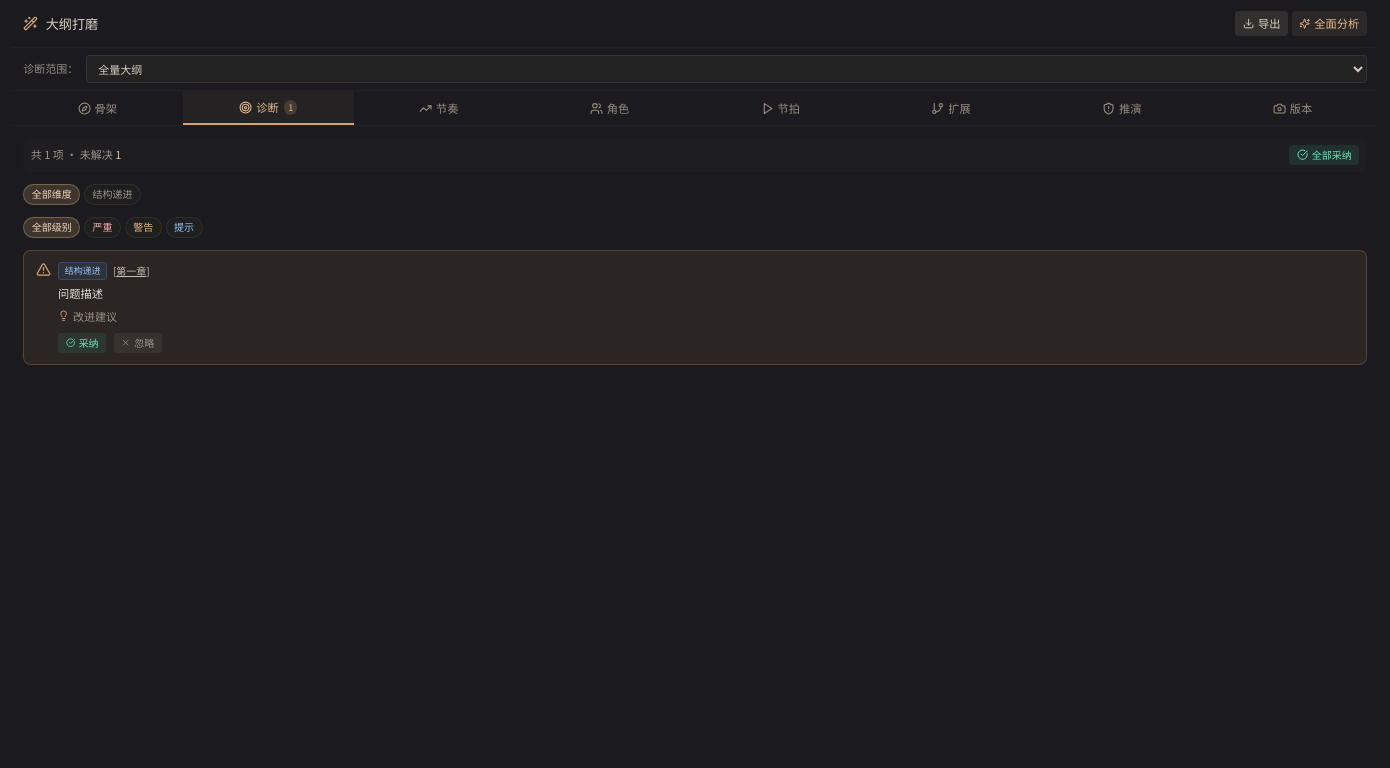
Test: OutlinePolishPanel › 三幕比例小于 8 时不显示文字
Click the button "节奏" at [439, 108], box [354,91,524,125]
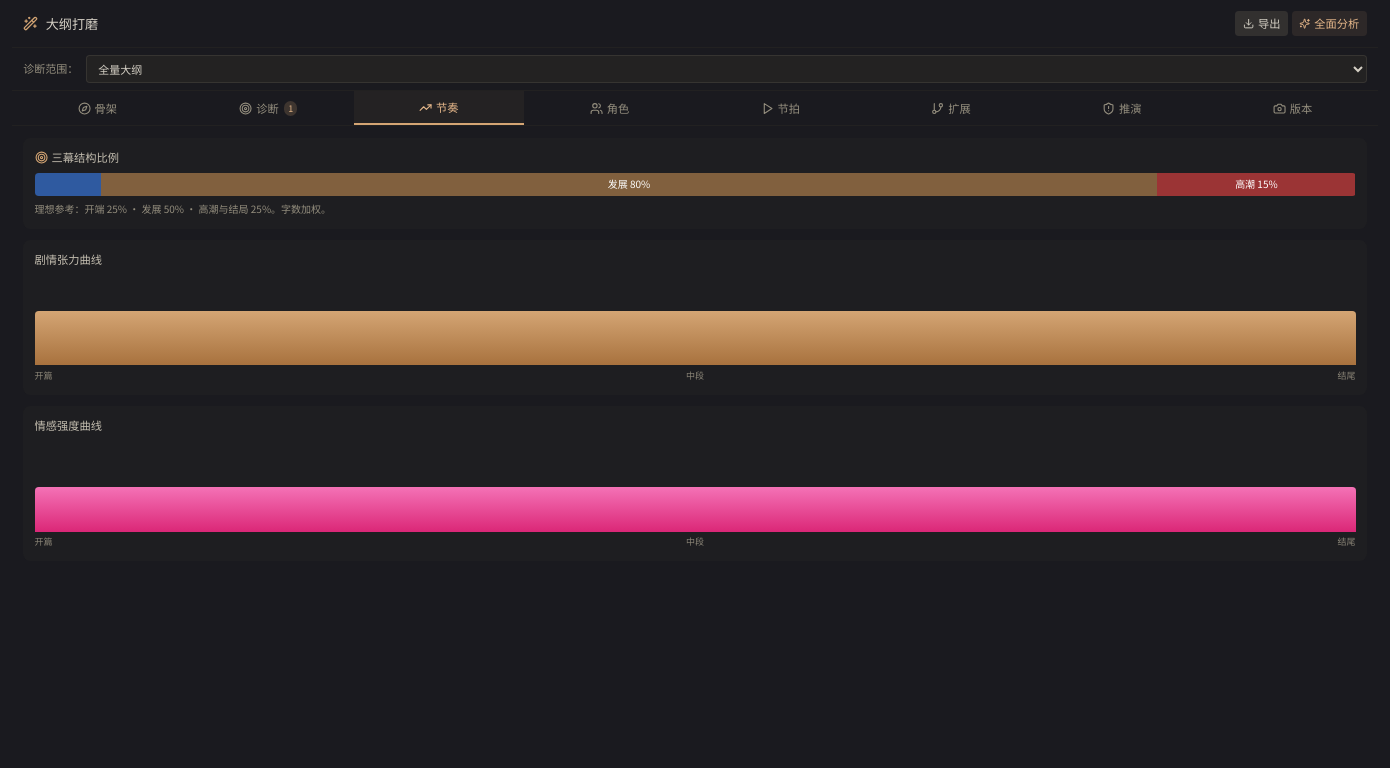
Expected: the text "发展 80%" is shown, [100,173,1157,196]
